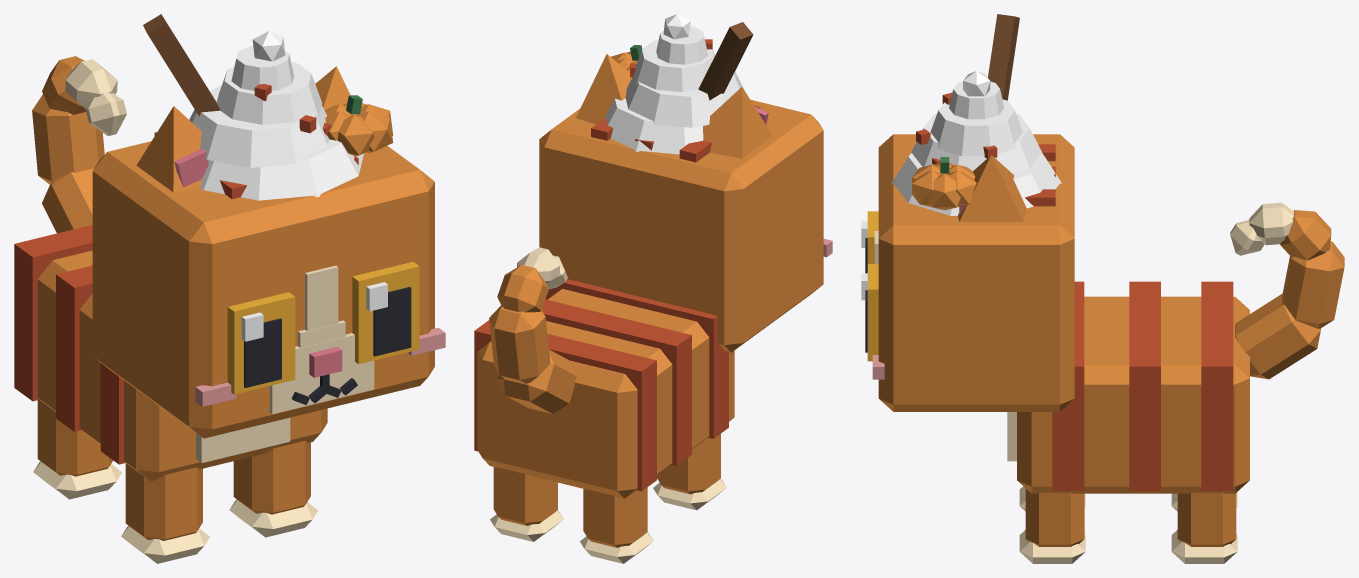
Rendered from CatCafe_Cat_PumpkinSpice.glb.
3 renders of one model, left to right at view 1: azimuth 30°, elevation 25°; view 2: azimuth 150°, elevation 25°; view 3: azimuth 270°, elevation 25°, orthographic. The views are drawn at different scales.
Parts seen in each view (by area): view 1: CatCafe_Cat_PumpkinSpice_Head, CatCafe_Cat_PumpkinSpice_Body, CatCafe_Cat_PumpkinSpice_Prop, CatCafe_Cat_PumpkinSpice_Tail, CatCafe_Cat_PumpkinSpice_LegF2, CatCafe_Cat_PumpkinSpice_LegF1, CatCafe_Cat_PumpkinSpice_Eye2, CatCafe_Cat_PumpkinSpice_Eye1, CatCafe_Cat_PumpkinSpice_LegB2, CatCafe_Cat_PumpkinSpice_EarR, CatCafe_Cat_PumpkinSpice_EarL; view 2: CatCafe_Cat_PumpkinSpice_Head, CatCafe_Cat_PumpkinSpice_Body, CatCafe_Cat_PumpkinSpice_Prop, CatCafe_Cat_PumpkinSpice_Tail, CatCafe_Cat_PumpkinSpice_LegB2, CatCafe_Cat_PumpkinSpice_LegB1, CatCafe_Cat_PumpkinSpice_LegF2, CatCafe_Cat_PumpkinSpice_EarR, CatCafe_Cat_PumpkinSpice_EarL; view 3: CatCafe_Cat_PumpkinSpice_Head, CatCafe_Cat_PumpkinSpice_Body, CatCafe_Cat_PumpkinSpice_Prop, CatCafe_Cat_PumpkinSpice_Tail, CatCafe_Cat_PumpkinSpice_LegF1, CatCafe_Cat_PumpkinSpice_LegB1, CatCafe_Cat_PumpkinSpice_EarL, CatCafe_Cat_PumpkinSpice_Eye1, CatCafe_Cat_PumpkinSpice_Eye2.
Boxes of the visible parts, x1,y1,x2,y2 form: CatCafe_Cat_PumpkinSpice_Head: [92, 132, 445, 438]; CatCafe_Cat_PumpkinSpice_Body: [14, 225, 327, 481]; CatCafe_Cat_PumpkinSpice_Prop: [143, 14, 393, 200]; CatCafe_Cat_PumpkinSpice_Tail: [32, 56, 126, 233]; CatCafe_Cat_PumpkinSpice_LegF2: [121, 463, 209, 563]; CatCafe_Cat_PumpkinSpice_LegF1: [229, 440, 318, 537]; CatCafe_Cat_PumpkinSpice_Eye2: [227, 292, 295, 394]; CatCafe_Cat_PumpkinSpice_Eye1: [352, 262, 419, 364]; CatCafe_Cat_PumpkinSpice_LegB2: [33, 400, 121, 499]; CatCafe_Cat_PumpkinSpice_EarR: [136, 106, 208, 192]; CatCafe_Cat_PumpkinSpice_EarL: [315, 66, 350, 110]; CatCafe_Cat_PumpkinSpice_Head: [539, 99, 832, 352]; CatCafe_Cat_PumpkinSpice_Body: [474, 279, 734, 498]; CatCafe_Cat_PumpkinSpice_Prop: [604, 14, 753, 154]; CatCafe_Cat_PumpkinSpice_Tail: [489, 247, 576, 413]; CatCafe_Cat_PumpkinSpice_LegB2: [580, 487, 653, 563]; CatCafe_Cat_PumpkinSpice_LegB1: [490, 467, 563, 541]; CatCafe_Cat_PumpkinSpice_LegF2: [653, 434, 726, 510]; CatCafe_Cat_PumpkinSpice_EarR: [703, 87, 772, 158]; CatCafe_Cat_PumpkinSpice_EarL: [576, 54, 632, 124]; CatCafe_Cat_PumpkinSpice_Head: [872, 134, 1074, 411]; CatCafe_Cat_PumpkinSpice_Body: [1007, 281, 1249, 493]; CatCafe_Cat_PumpkinSpice_Prop: [891, 14, 1061, 215]; CatCafe_Cat_PumpkinSpice_Tail: [1230, 202, 1344, 379]; CatCafe_Cat_PumpkinSpice_LegF1: [1019, 488, 1085, 563]; CatCafe_Cat_PumpkinSpice_LegB1: [1171, 492, 1237, 563]; CatCafe_Cat_PumpkinSpice_EarL: [958, 155, 1026, 221]; CatCafe_Cat_PumpkinSpice_Eye1: [861, 264, 878, 361]; CatCafe_Cat_PumpkinSpice_Eye2: [861, 211, 878, 273].
Size of the model in its own units: 1 by 2.17 by 1.97.
Materials: 1 (1 with a texture image).
